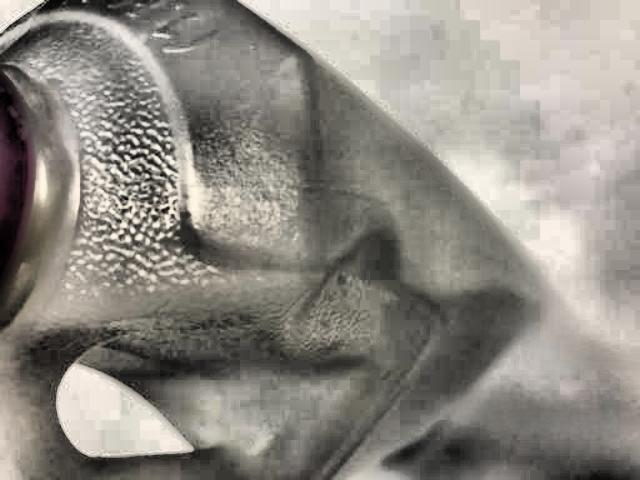Plastic: (1, 6, 555, 480)
